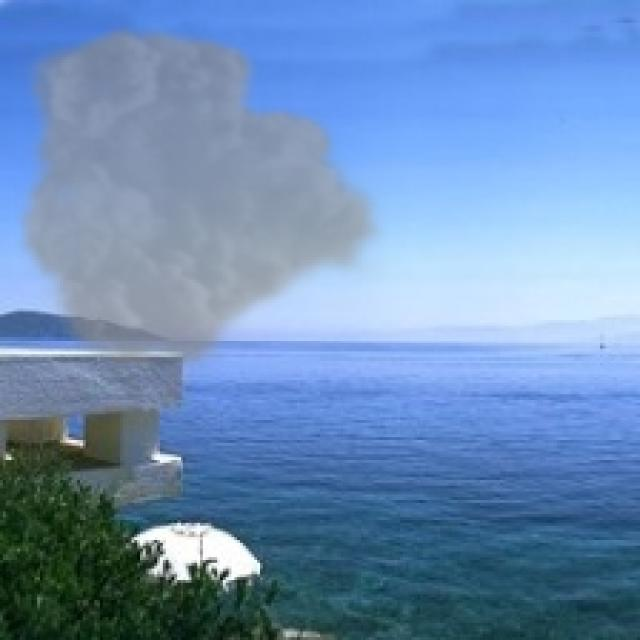smoke: (14, 20, 389, 377)
